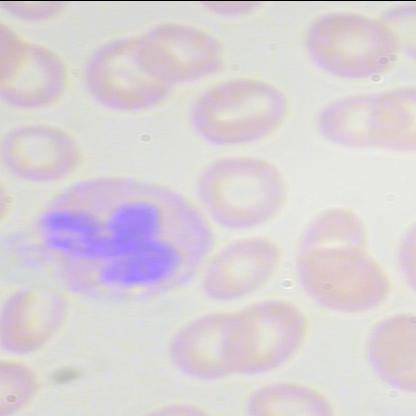RBC: (79, 34, 184, 118), (185, 72, 291, 152), (161, 304, 263, 382), (289, 240, 391, 318), (312, 84, 414, 162), (293, 11, 401, 80), (197, 152, 294, 228), (220, 296, 310, 376), (287, 204, 367, 284), (0, 275, 76, 357), (128, 22, 223, 86), (198, 234, 284, 302), (0, 122, 85, 186), (239, 377, 341, 415)
WBC: (24, 170, 214, 310)
